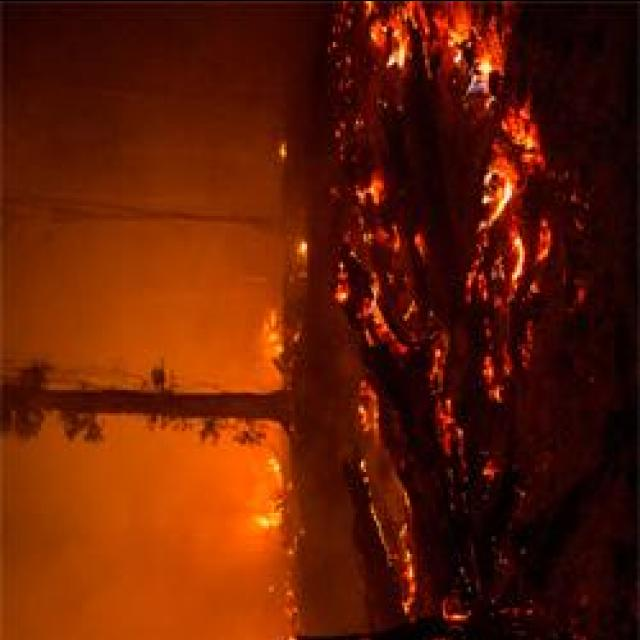fire: (472, 100, 540, 308), (369, 5, 496, 79)
smoke: (105, 526, 258, 632)
